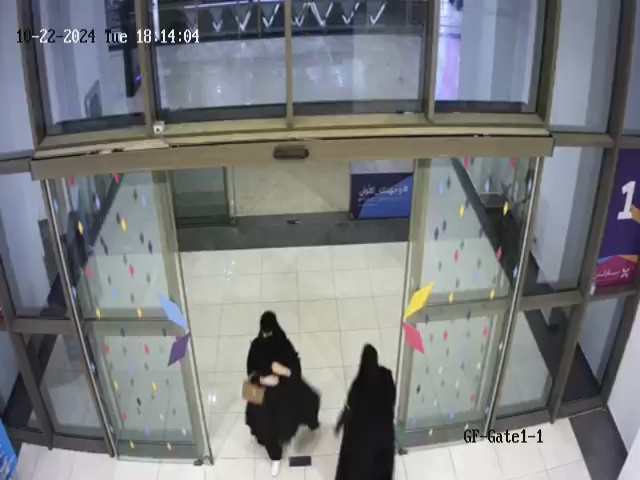female: (243, 310, 322, 479), (334, 329, 403, 480)
